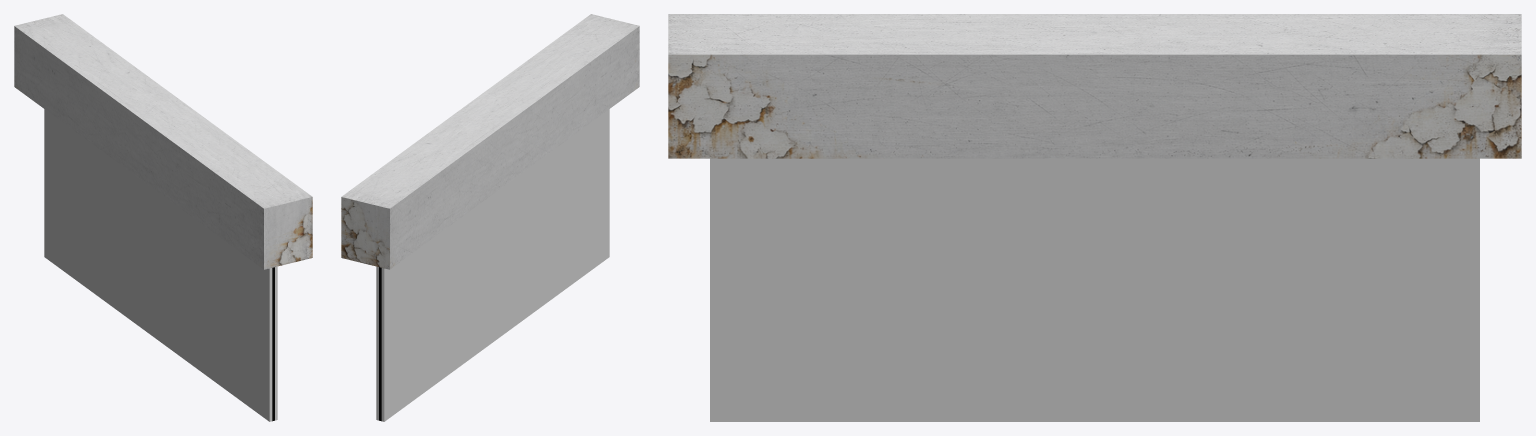
The model's file is simple_exit_sign.glb.
3 views of the same model, side by side, from view 1: azimuth 30°, elevation 25°; view 2: azimuth 150°, elevation 25°; view 3: azimuth 270°, elevation 25° (orthographic). The views are drawn at different scales.
Parts seen in each view (by area): view 1: Cube.001, Cube.003, Cube, Cube.002; view 2: Cube.001, Cube.003, Cube, Cube.002; view 3: Cube, Cube.003.
Boxes of the visible parts, x1,y1,x2,y2 form: Cube.001: (44,109,272,421); Cube.003: (14,14,312,269); Cube: (275,266,277,420); Cube.002: (272,267,274,421); Cube.001: (381,109,609,421); Cube.003: (341,14,639,269); Cube: (376,266,378,420); Cube.002: (379,267,381,421); Cube: (710,158,1479,421); Cube.003: (668,14,1521,158).
Bounding box in the file's own units: 0.6092 × 2.7 × 5.41.
Materials: 2 (1 with a texture image).
